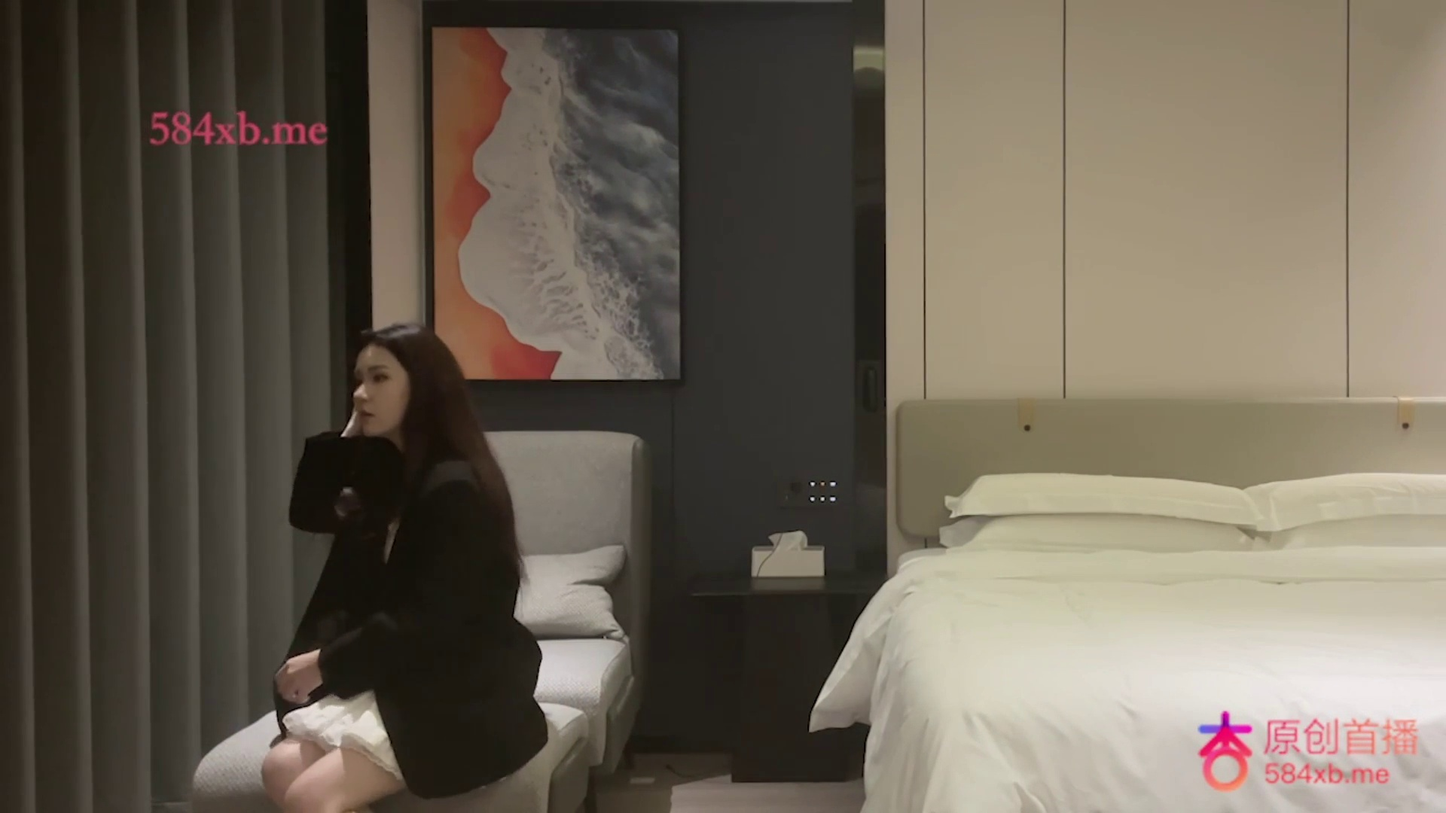sit: (261, 321, 552, 811)
